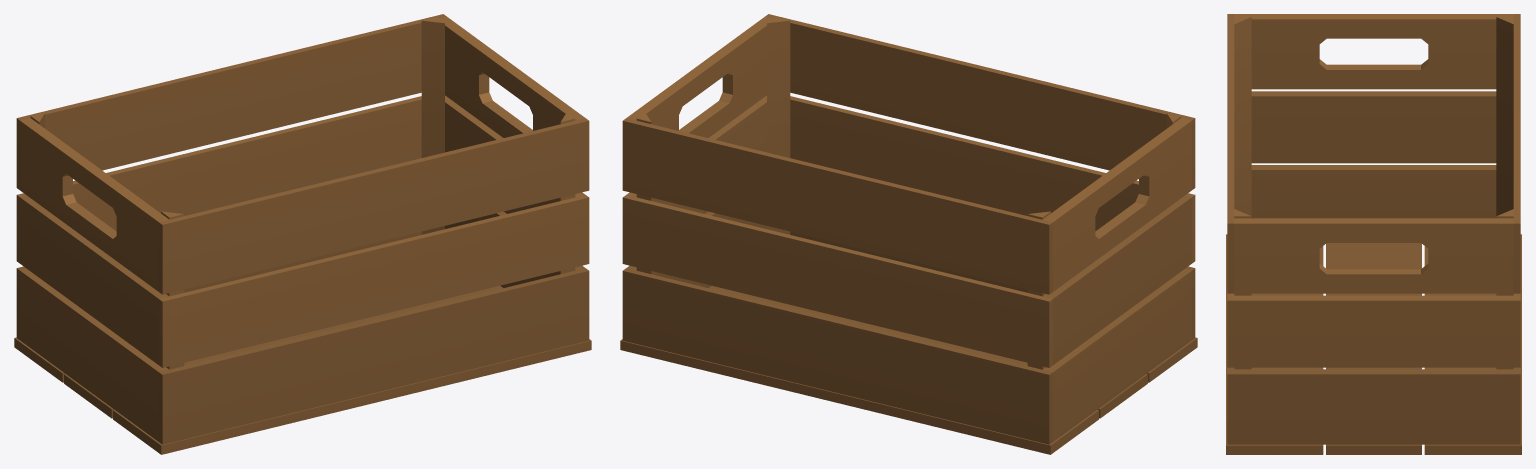
File: Prop_Wooden_Crate_01.obj
3 renders of one model, left to right at view 1: azimuth 30°, elevation 25°; view 2: azimuth 150°, elevation 25°; view 3: azimuth 270°, elevation 25°, orthographic.
Parts seen in each view (by area): view 1: Prop_Wooden_Crate_01; view 2: Prop_Wooden_Crate_01; view 3: Prop_Wooden_Crate_01.
Part boxes in pixels (x1=…): Prop_Wooden_Crate_01: x1=14, y1=14, x2=591, y2=454; Prop_Wooden_Crate_01: x1=620, y1=14, x2=1197, y2=454; Prop_Wooden_Crate_01: x1=1226, y1=14, x2=1521, y2=454.
Size of the model in its own units: 0.7662 by 0.3936 by 0.4537.
Materials: 1 (1 with a texture image).
